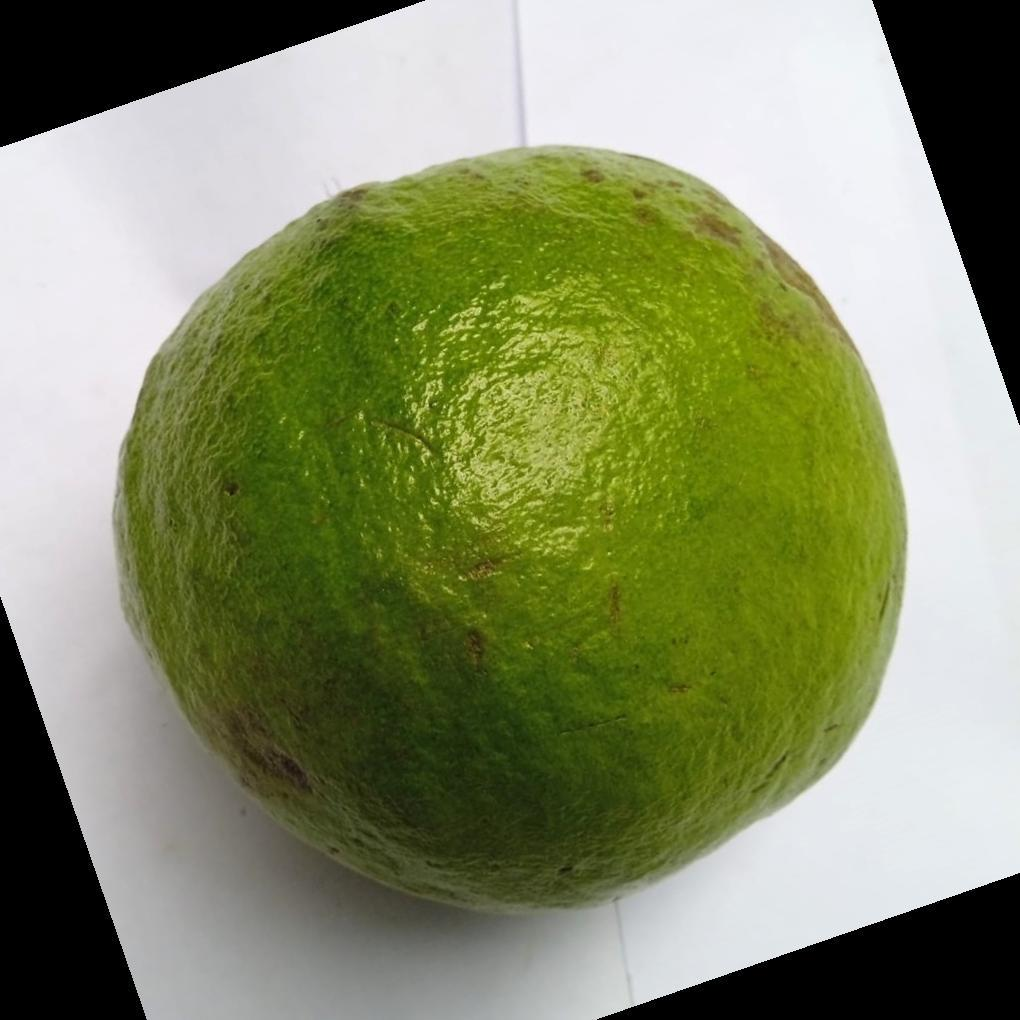FreshGuava: (110, 146, 910, 919)
